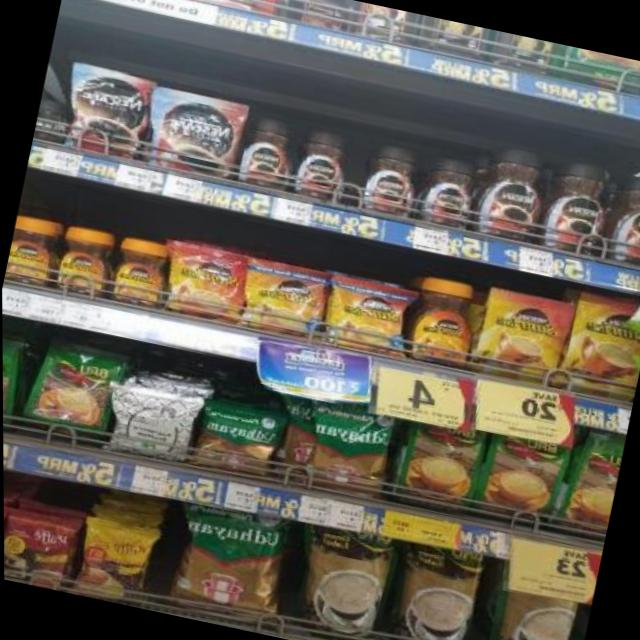Coffee: (470, 290, 573, 390), (556, 290, 640, 404), (147, 88, 250, 180), (62, 67, 155, 161), (538, 157, 622, 260), (470, 143, 554, 246), (402, 272, 483, 368), (161, 240, 249, 324), (239, 259, 328, 340), (326, 276, 410, 355), (416, 153, 484, 229), (356, 142, 424, 218), (234, 116, 301, 190), (288, 129, 353, 203), (110, 236, 169, 309), (3, 215, 62, 288), (54, 225, 112, 298), (606, 173, 640, 270), (33, 98, 69, 144)
